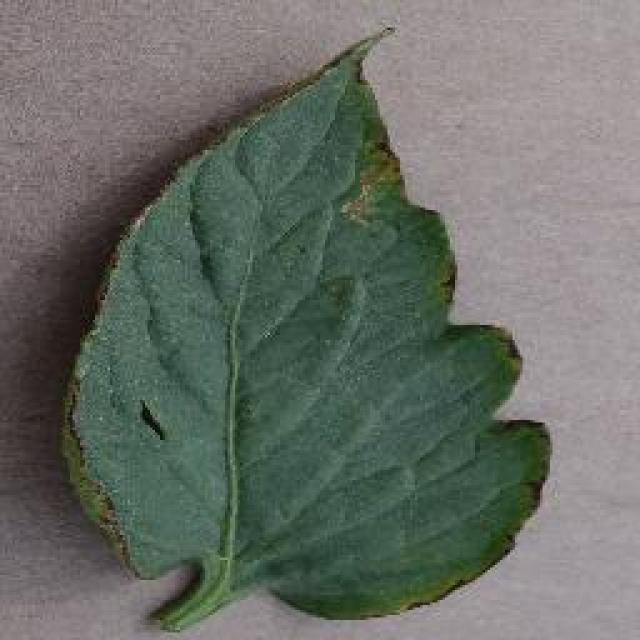Tomato bacterial spot leaf: (74, 31, 546, 626)
